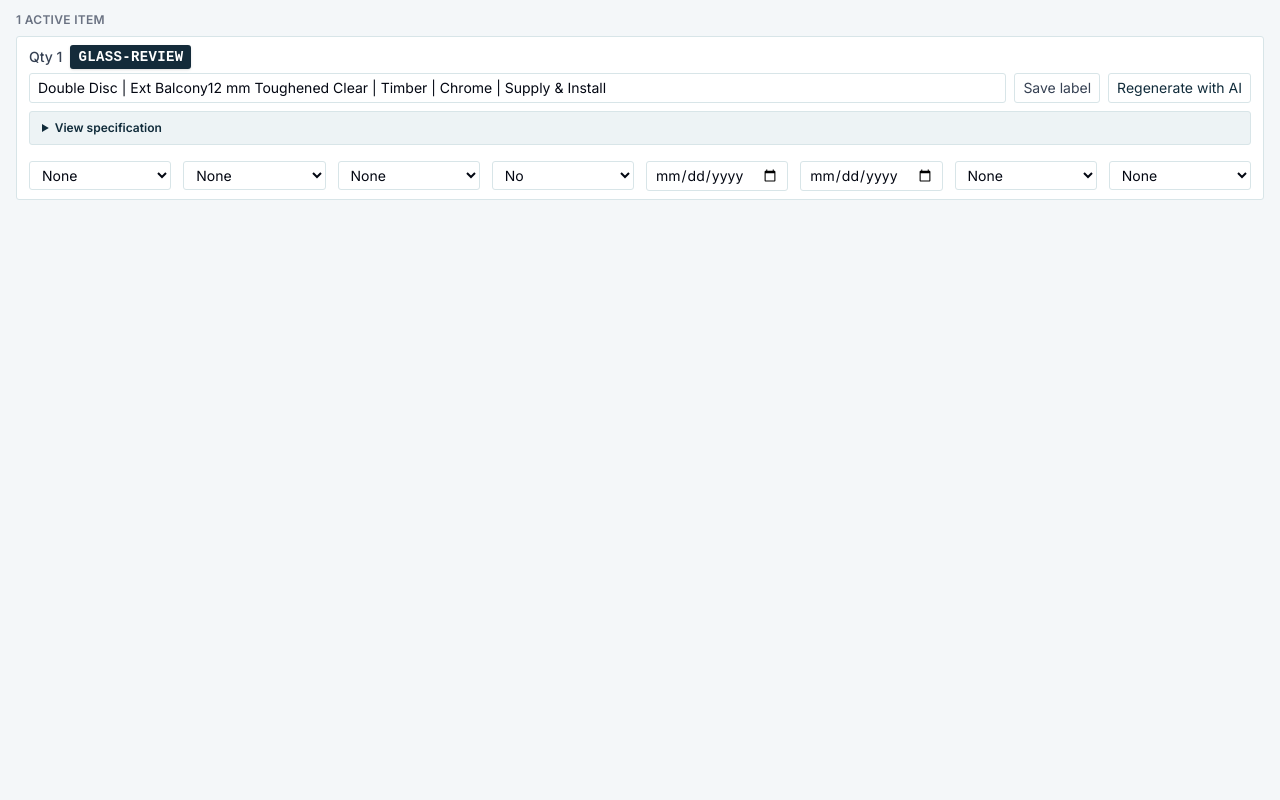
WorkOrderItemsSummary › opens a ready draft as a dropdown-only review surface
Click the heading "View specification". click: [108, 128]
box: [55, 120, 162, 135]
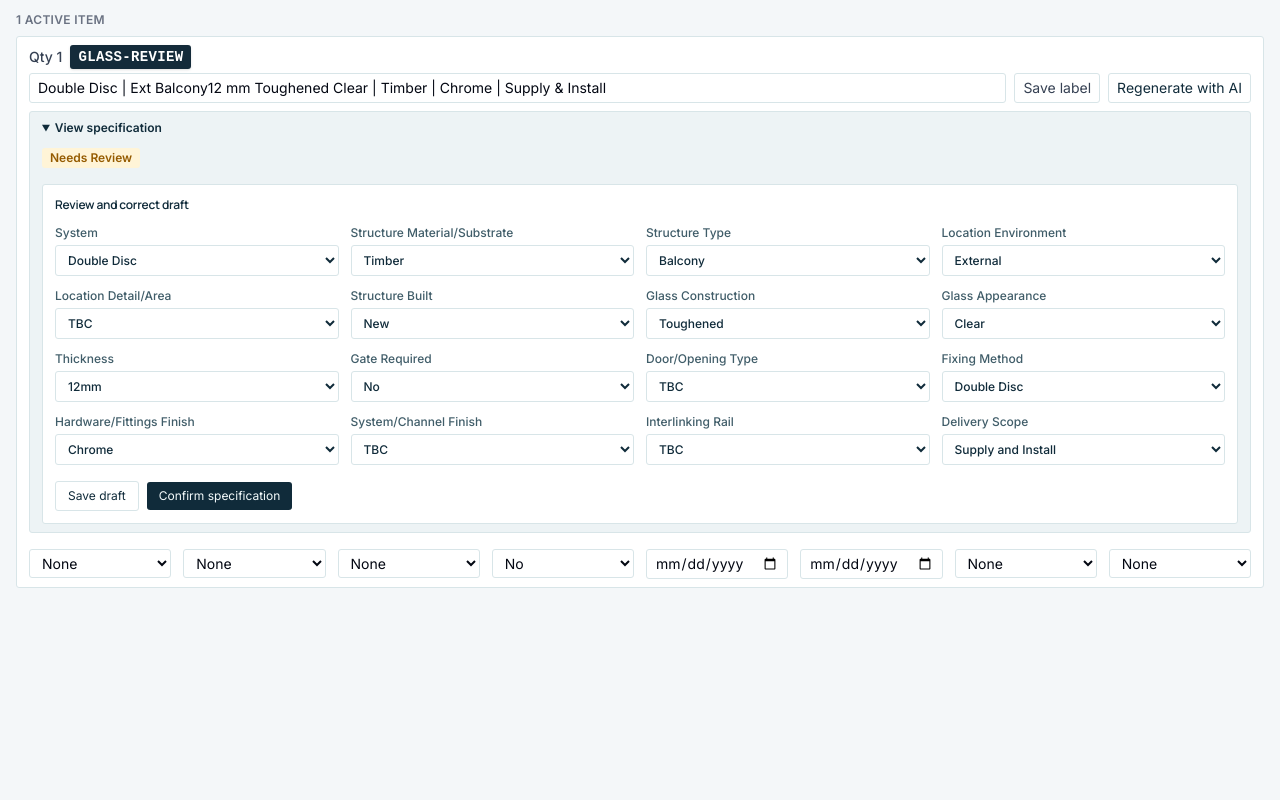
Expected: the dropdown named "System for GLASS-REVIEW" shows "Double Disc", [55, 245, 338, 276]
